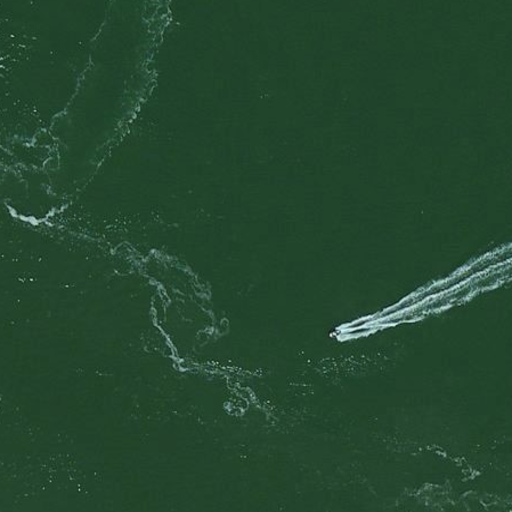ship: (325, 327, 345, 340)
